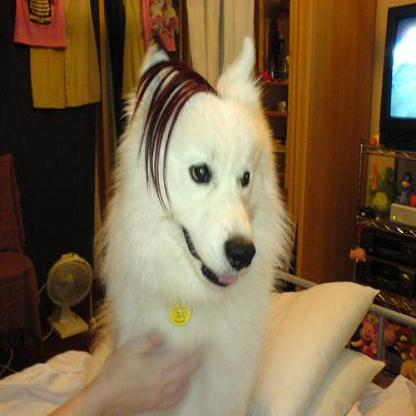Samoyed: (93, 33, 299, 414)
